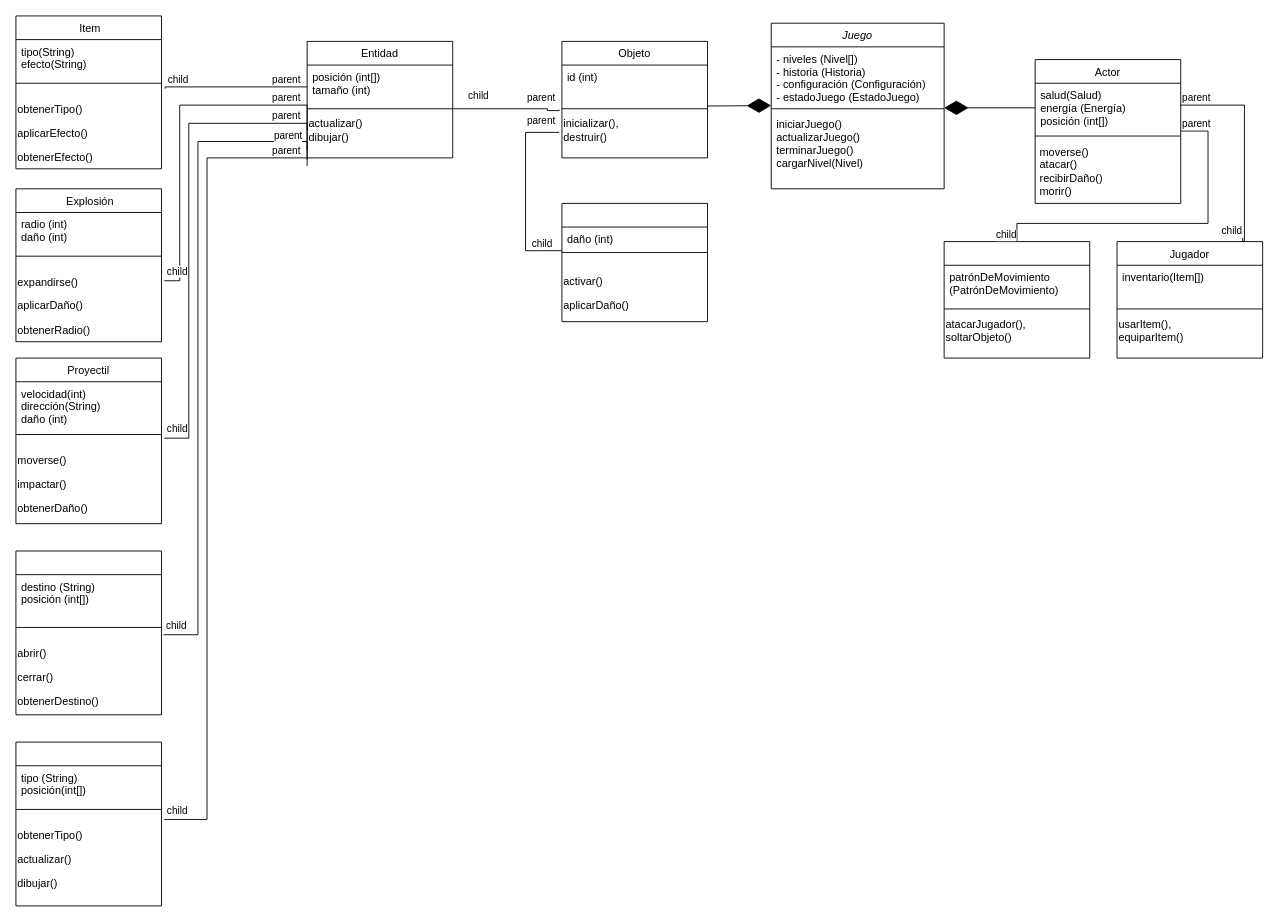
The diagram is 1279 pixels wide and 922 high, and some of its shapes have lost their labels. The box of each missing label's shape, as (x1, y1, x2, y2) in pixels:
Puerta: (15, 550, 162, 715)
Tile: (15, 741, 162, 906)
Trampa: (561, 202, 708, 322)
Villano: (943, 241, 1090, 358)
